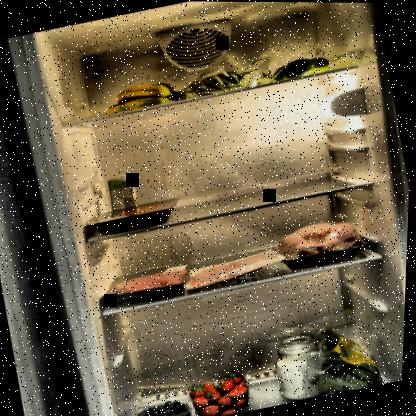banana: (102, 75, 183, 118)
beef: (86, 195, 188, 239)
blueberries: (134, 393, 196, 415)
chicken: (274, 210, 376, 274)
green_beans: (179, 51, 291, 100)
ground_beef: (101, 259, 198, 308)
heavy_cream: (105, 173, 142, 214)
lime: (275, 52, 333, 81)
spinach: (297, 313, 399, 398)
strawberries: (185, 364, 262, 415)
